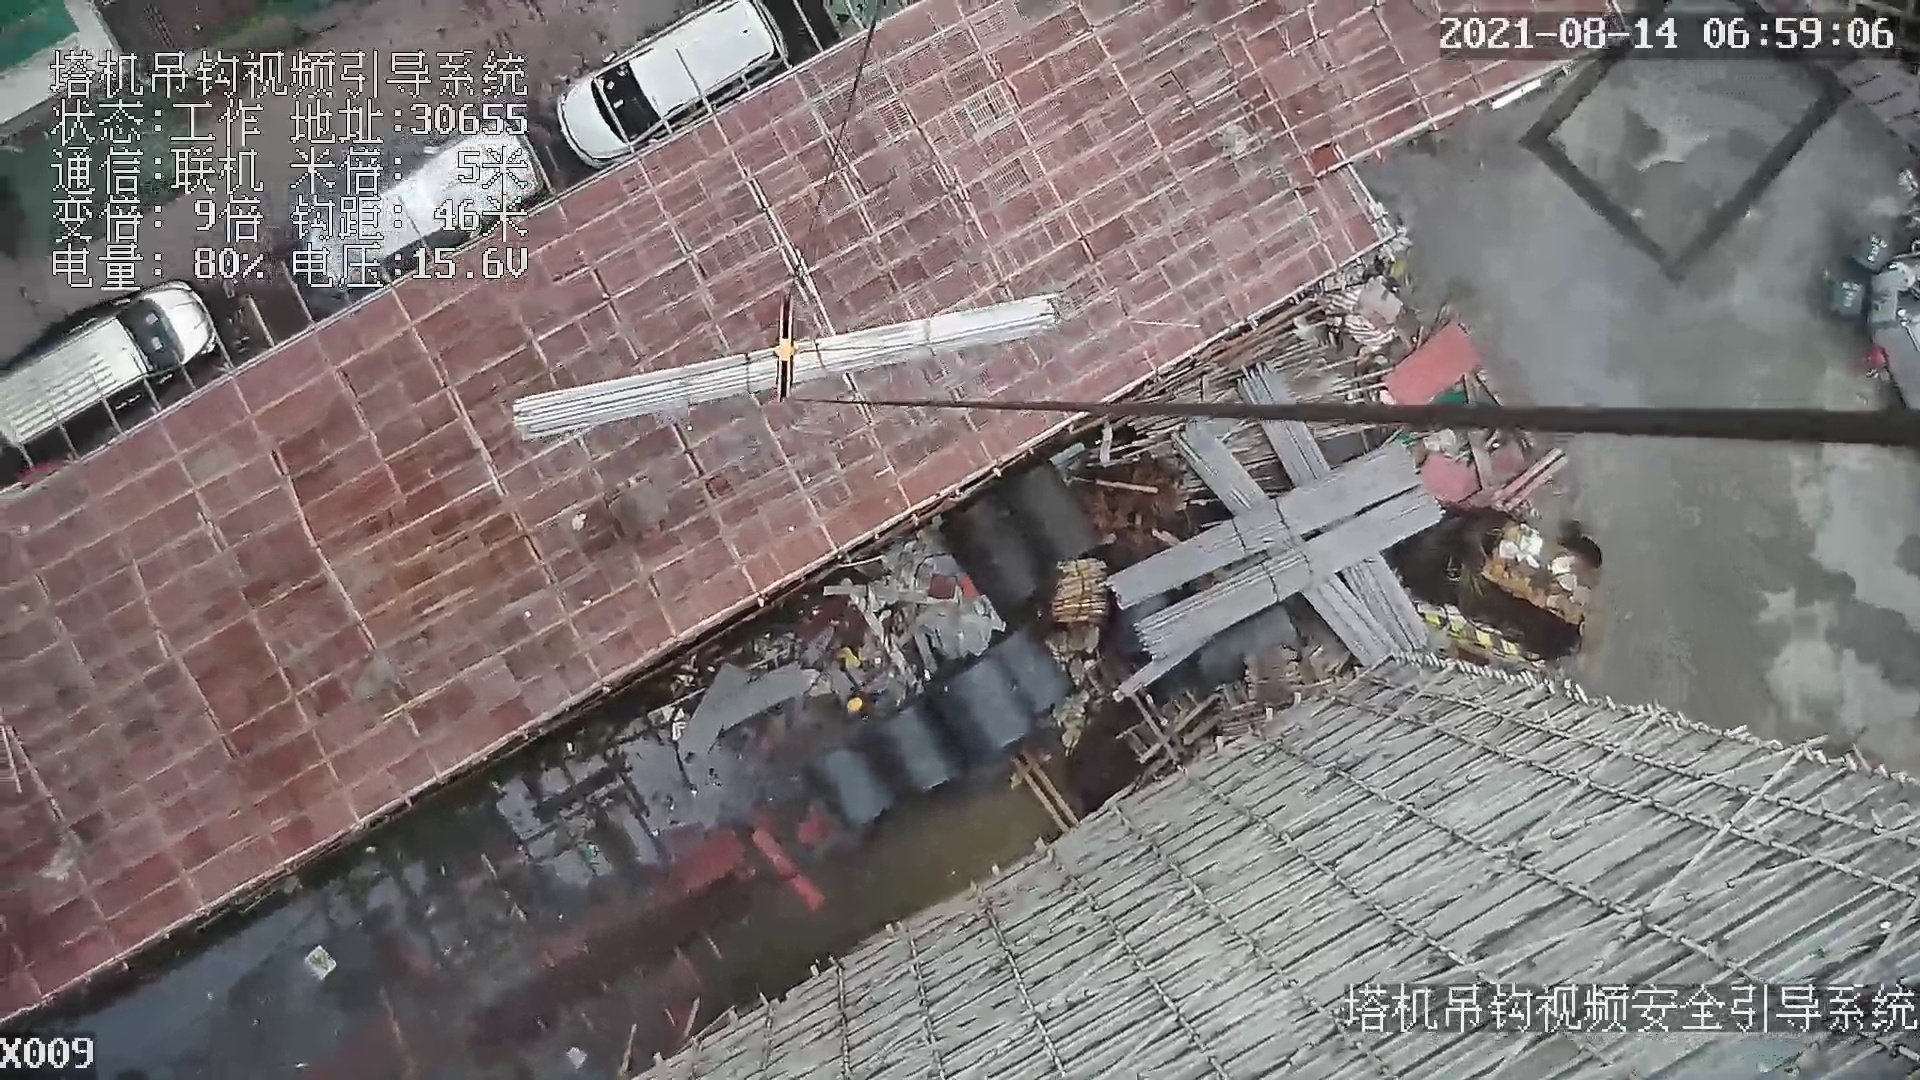hook: (765, 291, 803, 410)
rebar: (502, 295, 1065, 435), (1241, 355, 1432, 655), (1133, 485, 1447, 659), (1174, 419, 1395, 666), (1104, 444, 1428, 607)
wood: (1055, 558, 1106, 625)
